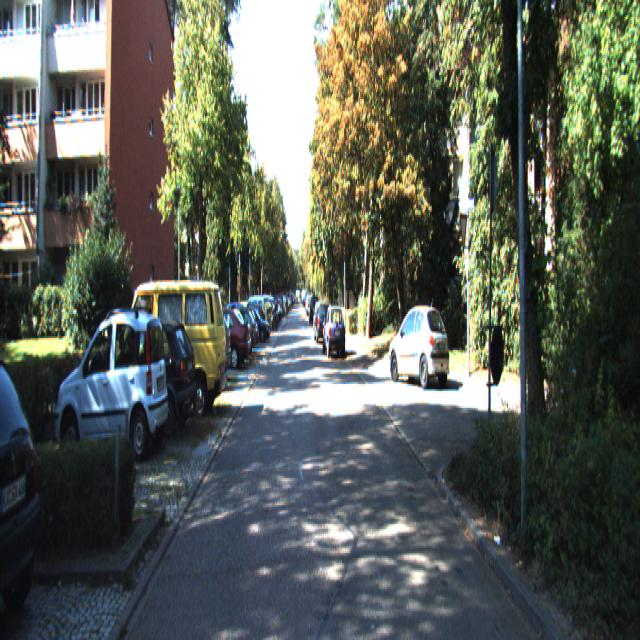Car: (57, 306, 171, 466), (0, 335, 51, 638), (95, 311, 197, 437), (388, 303, 452, 391), (196, 303, 252, 366), (322, 306, 346, 360)
DontCare: (237, 290, 293, 338), (303, 288, 327, 345)
Van: (124, 271, 228, 418)
